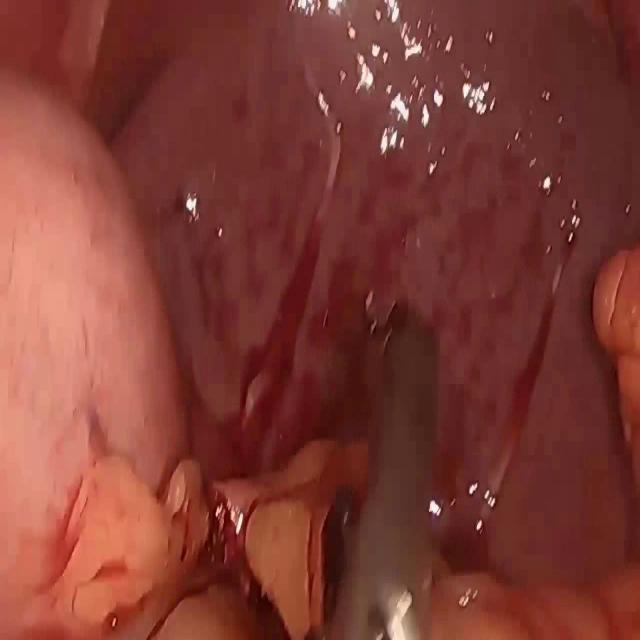surgical-area: (0, 0, 640, 639)
surgical-tool: (328, 309, 442, 639)
